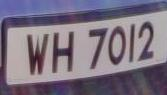0: (108, 22, 129, 71)
1: (126, 19, 139, 68)
2: (137, 16, 157, 68)
7: (85, 24, 109, 74)
H: (50, 27, 78, 79)
W: (23, 28, 50, 82)
